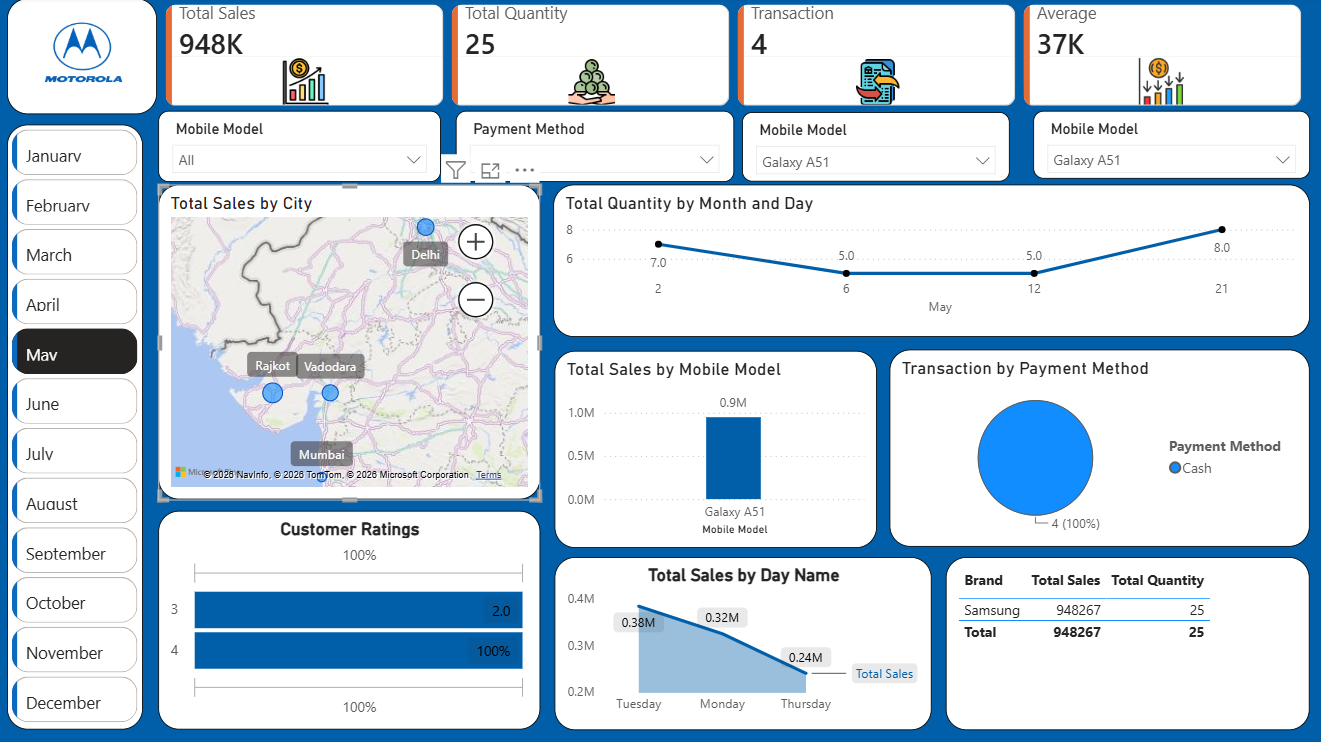

This screenshot's page, from the dashboard's own definition file:
{"tool":"powerbi","page":{"name":"Page 1","canvas":[1280,720],"ordinal":0},"visuals":[{"type":"shape","box":[9.4,0,145.3,112.5],"z":0},{"type":"image","box":[23.4,7.8,117.2,93.8],"z":1000},{"type":"shape","box":[9.4,123.4,131.2,584.4],"z":2000},{"type":"advancedSlicerVisual","fields":{"Values":["Mobile_Sales_Data.Date.Variation.Date Hierarchy.Month"]},"box":[9.4,123.4,131.2,584.4],"z":3000},{"type":"cardVisual","fields":{"Data":["Mobile_Sales_Data.Toatal Sales","Mobile_Sales_Data.Total Quantity","Mobile_Sales_Data.Transaction","Mobile_Sales_Data.Average"]},"box":[155.7,0,1111.4,112.9],"z":4000},{"type":"map","fields":{"Category":["Mobile_Sales_Data.City"],"Size":["Mobile_Sales_Data.Total Sales"]},"box":[155.7,181.4,368.6,304.3],"z":5000},{"type":"lineChart","fields":{"Y":["Mobile_Sales_Data.Total Quantity"],"Category":["Mobile_Sales_Data.Date.Variation.Date Hierarchy.Month","Mobile_Sales_Data.Date.Variation.Date Hierarchy.Day"]},"box":[537.1,181.4,730,147.1],"z":6000},{"type":"clusteredColumnChart","fields":{"Y":["Mobile_Sales_Data.Total Sales"],"Category":["Mobile_Sales_Data.Mobile Model"]},"box":[538.6,341.4,311.4,190],"z":7000},{"type":"pieChart","fields":{"Category":["Mobile_Sales_Data.Payment Method"],"Y":["Mobile_Sales_Data.Transaction"]},"box":[861.4,340,405.7,190],"z":8000},{"type":"funnel","title":"Customer Ratings","fields":{"Category":["Mobile_Sales_Data.Customer Ratings"],"Y":["CountNonNull(Mobile_Sales_Data.Customer Ratings)"]},"box":[155.7,495.7,368.6,211.4],"z":9000},{"type":"areaChart","fields":{"Category":["Mobile_Sales_Data.Day Name"],"Y":["Mobile_Sales_Data.Total Sales"]},"box":[538.6,540,364.3,167.1],"z":10000},{"type":"tableEx","fields":{"Values":["Mobile_Sales_Data.Brand","Mobile_Sales_Data.Total Sales","Mobile_Sales_Data.Total Quantity"]},"box":[915.7,540,351.4,167.1],"z":11000},{"type":"slicer","fields":{"Values":["Mobile_Sales_Data.Mobile Model"]},"box":[155.7,110,272.9,68.6],"z":12000},{"type":"slicer","fields":{"Values":["Mobile_Sales_Data.Payment Method"]},"box":[442.9,110,268.6,68.6],"z":13000},{"type":"slicer","fields":{"Values":["Mobile_Sales_Data.Mobile Model"]},"box":[718.6,111.4,258.6,67.1],"z":14000},{"type":"slicer","fields":{"Values":["Mobile_Sales_Data.Mobile Model"]},"box":[1000,110,267.1,65.7],"z":15000}]}

Visuals, with their boxes in screenshot pixels (x1, y1, x2, y2), scaled from the page's 1280x720 canvas onto the 1321x742 screenshot:
shape: <box>10,0,160,116</box>
image: <box>24,8,145,105</box>
shape: <box>10,127,145,729</box>
advancedSlicerVisual - Mobile_Sales_Data.Date.Variation.Date Hierarchy.Month: <box>10,127,145,729</box>
cardVisual - Mobile_Sales_Data.Toatal Sales x Mobile_Sales_Data.Total Quantity: <box>161,0,1308,116</box>
map - Mobile_Sales_Data.City x Mobile_Sales_Data.Total Sales: <box>161,187,541,501</box>
lineChart - Mobile_Sales_Data.Total Quantity x Mobile_Sales_Data.Date.Variation.Date Hierarchy.Month: <box>554,187,1308,339</box>
clusteredColumnChart - Mobile_Sales_Data.Total Sales x Mobile_Sales_Data.Mobile Model: <box>556,352,877,548</box>
pieChart - Mobile_Sales_Data.Payment Method x Mobile_Sales_Data.Transaction: <box>889,350,1308,546</box>
"Customer Ratings" funnel: <box>161,511,541,729</box>
areaChart - Mobile_Sales_Data.Day Name x Mobile_Sales_Data.Total Sales: <box>556,556,932,729</box>
tableEx - Mobile_Sales_Data.Brand x Mobile_Sales_Data.Total Sales: <box>945,556,1308,729</box>
slicer - Mobile_Sales_Data.Mobile Model: <box>161,113,442,184</box>
slicer - Mobile_Sales_Data.Payment Method: <box>457,113,734,184</box>
slicer - Mobile_Sales_Data.Mobile Model: <box>742,115,1009,184</box>
slicer - Mobile_Sales_Data.Mobile Model: <box>1032,113,1308,181</box>
